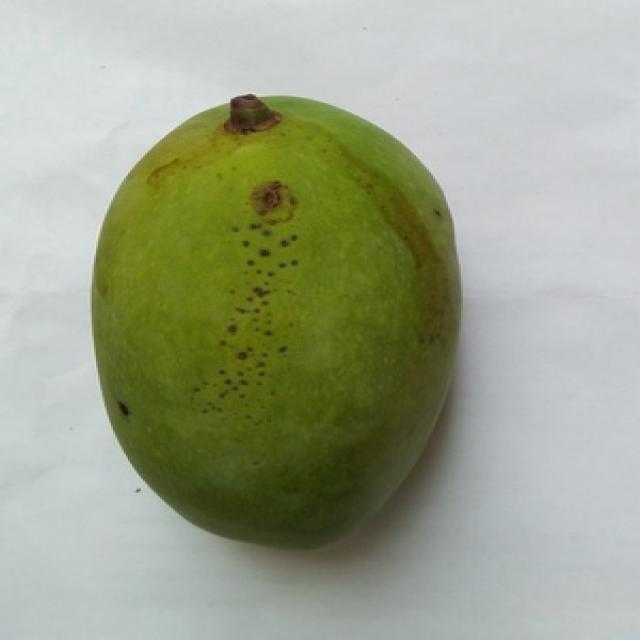Mango: (92, 97, 459, 546)
